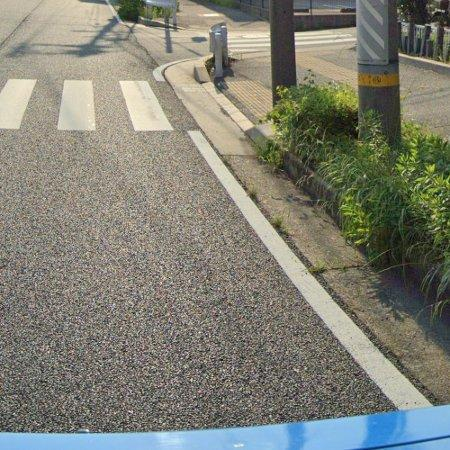crosswalks: (0, 72, 235, 134)
